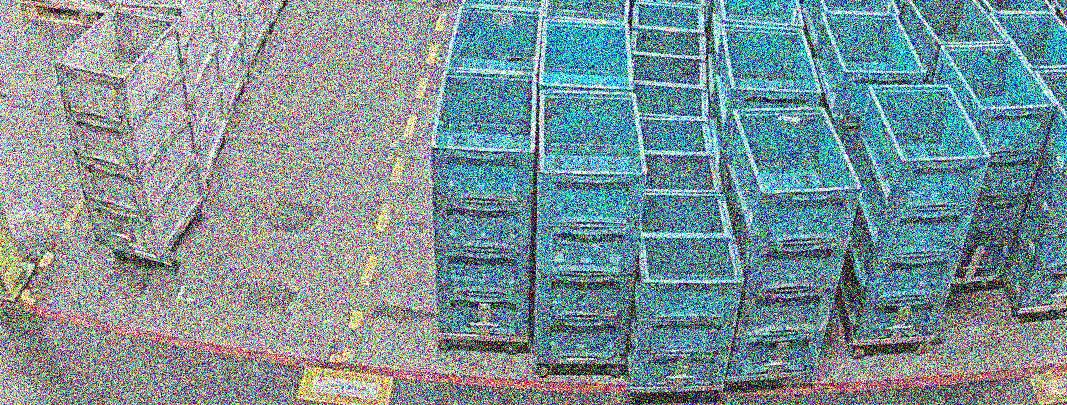4G: (54, 6, 210, 263)
B4: (838, 84, 992, 345), (722, 108, 862, 381), (534, 92, 649, 363), (933, 44, 1059, 281), (430, 70, 538, 339)
B8: (629, 191, 744, 392)
